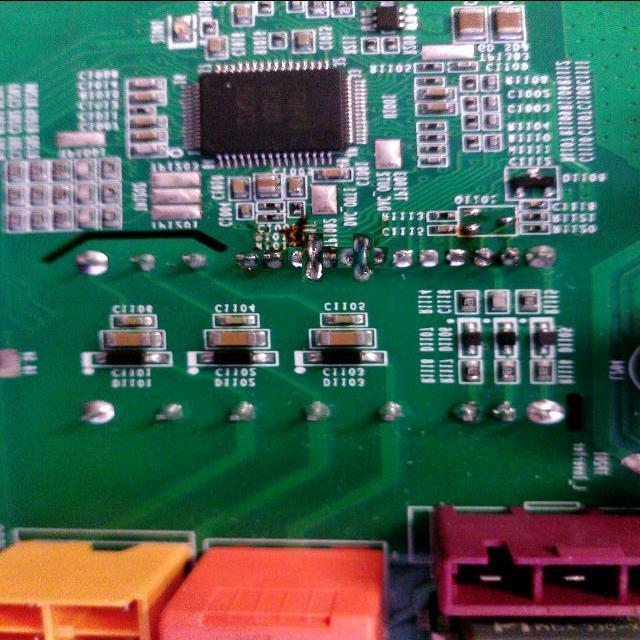Short_circuit: (295, 240, 331, 275), (346, 240, 381, 275)
